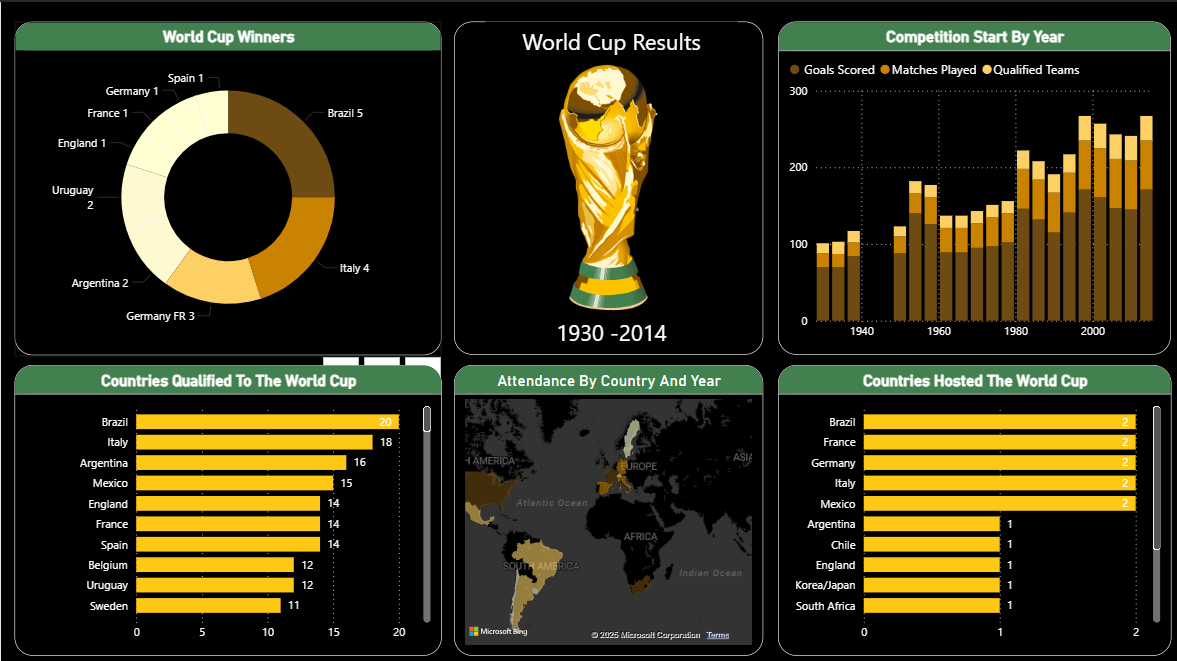

The page's visual inventory and layout, read from the dashboard file:
{"tool":"powerbi","page":{"name":"Page 1","canvas":[1280,720],"ordinal":0},"visuals":[{"type":"image","box":[491.7,22.2,335,361.1],"z":0,"group":"g1"},{"type":"columnChart","title":" Competition Start By Year","fields":{"Y":["Sum(WorldCups.GoalsScored)","Sum(WorldCups.MatchesPlayed)","Sum(WorldCups.QualifiedTeams)"],"Category":["WorldCups.Year"]},"box":[842.5,21.1,426.2,361.1],"z":0},{"type":"donutChart","title":"World Cup Winners","fields":{"Category":["WorldCups.Winner"],"Y":["CountNonNull(WorldCups.Winner)"]},"box":[15,21.7,463.3,361.7],"z":1000},{"type":"textbox","box":[525.4,21.7,273.3,42.2],"z":2000,"group":"g1"},{"type":"group","id":"g1","title":"Group 1","box":[491.7,21.7,335,361.7],"z":2000},{"type":"textbox","box":[525.4,337.9,273.3,44.2],"z":3000,"group":"g1"},{"type":"barChart","title":"Countries Qualified To The World Cup","fields":{"Category":["World Cup - Tableau format.Team"],"Y":["Count(World Cup - Tableau format.Year)"]},"box":[15,393.3,463.3,315],"z":3000},{"type":"barChart","title":"Countries Hosted The World Cup","fields":{"Category":["WorldCups.Country"],"Y":["CountNonNull(WorldCups.Country)"]},"box":[843.3,393.3,426.7,315],"z":4000},{"type":"filledMap","title":"Attendance By Country And Year","fields":{"Category":["WorldCups.Country"],"Series":["WorldCups.Attendance"]},"box":[491.7,393.3,335,315],"z":4001}]}

Visuals, with their boxes in screenshot pixels (x1, y1, x2, y2), scaled from the page's 1280x720 canvas onto the 1177x661 screenshot:
image: region(452, 20, 760, 352)
" Competition Start By Year" columnChart: region(775, 19, 1167, 351)
"World Cup Winners" donutChart: region(14, 20, 440, 352)
textbox: region(483, 20, 734, 59)
"Group 1" group: region(452, 20, 760, 352)
textbox: region(483, 310, 734, 351)
"Countries Qualified To The World Cup" barChart: region(14, 361, 440, 650)
"Countries Hosted The World Cup" barChart: region(775, 361, 1168, 650)
"Attendance By Country And Year" filledMap: region(452, 361, 760, 650)
